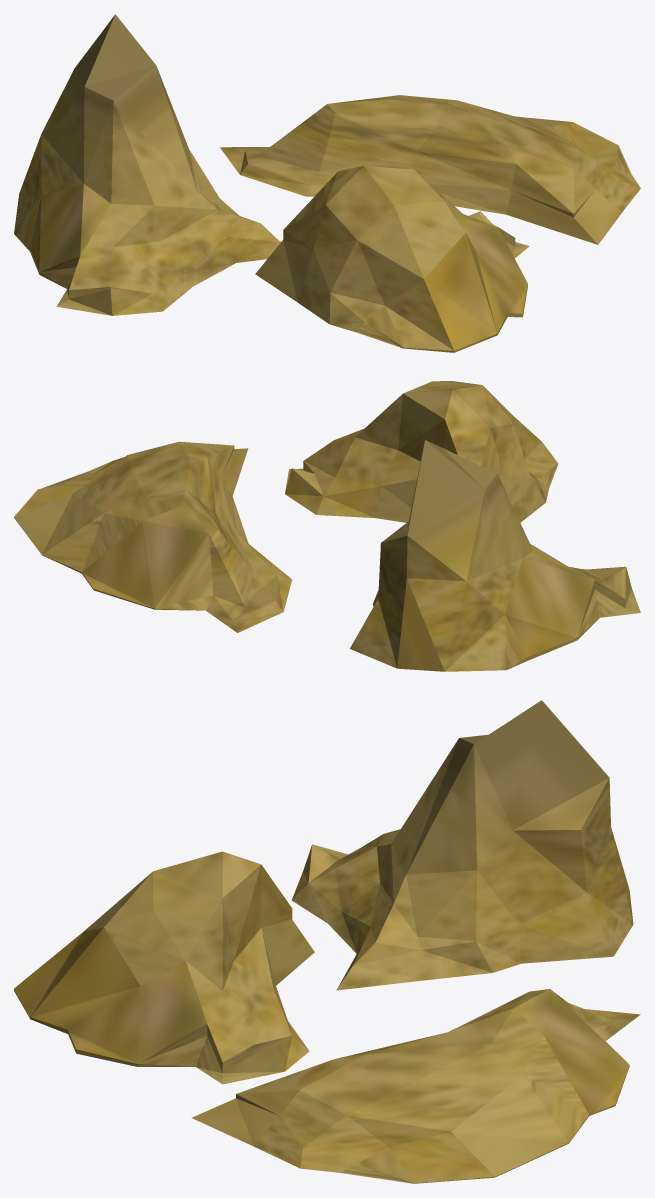
File: gold_model_1.dae
The picture shows the model from 3 angles, top to bottom: view 1: azimuth 30°, elevation 25°; view 2: azimuth 150°, elevation 25°; view 3: azimuth 270°, elevation 25°; orthographic projection. The views are drawn at different scales.
Visible parts, largest first — view 1: Cube.001, Cube, Cube.002; view 2: Cube.001, Cube.002, Cube; view 3: Cube.001, Cube.002, Cube.
Part boxes in pixels (box(x1,y1,x2,y2)): Cube.001: box(14, 14, 280, 315); Cube: box(255, 166, 529, 352); Cube.002: box(220, 95, 640, 244); Cube.001: box(350, 440, 640, 671); Cube.002: box(14, 441, 292, 632); Cube: box(285, 381, 558, 522); Cube.001: box(291, 700, 633, 990); Cube.002: box(191, 989, 640, 1183); Cube: box(14, 851, 314, 1084).
Size of the model in its own units: 3.07 by 2.46 by 1.04.
Materials: 3 (3 with a texture image).
